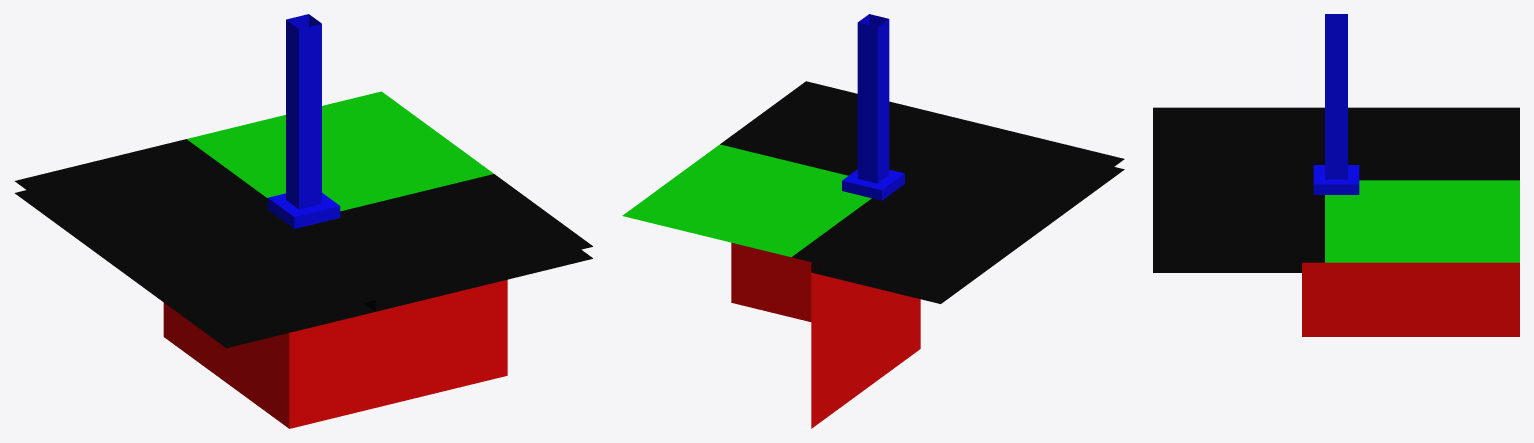
The model's file is None_W_P_E_E_P_P_E_E_BigStrut.fbx.
3 views of the same model, side by side, from view 1: azimuth 30°, elevation 25°; view 2: azimuth 150°, elevation 25°; view 3: azimuth 270°, elevation 25° (orthographic). The views are drawn at different scales.
Visible parts, largest first — view 1: None_W_P_E_E_P_P_E_E_BigStrut; view 2: None_W_P_E_E_P_P_E_E_BigStrut; view 3: None_W_P_E_E_P_P_E_E_BigStrut.
Boxes of the visible parts, left/top/right/bottom form: None_W_P_E_E_P_P_E_E_BigStrut: left=14, top=14, right=592, bottom=428; None_W_P_E_E_P_P_E_E_BigStrut: left=622, top=14, right=1124, bottom=428; None_W_P_E_E_P_P_E_E_BigStrut: left=1153, top=14, right=1519, bottom=336.
Size of the model in its own units: 100 by 100 by 100.
